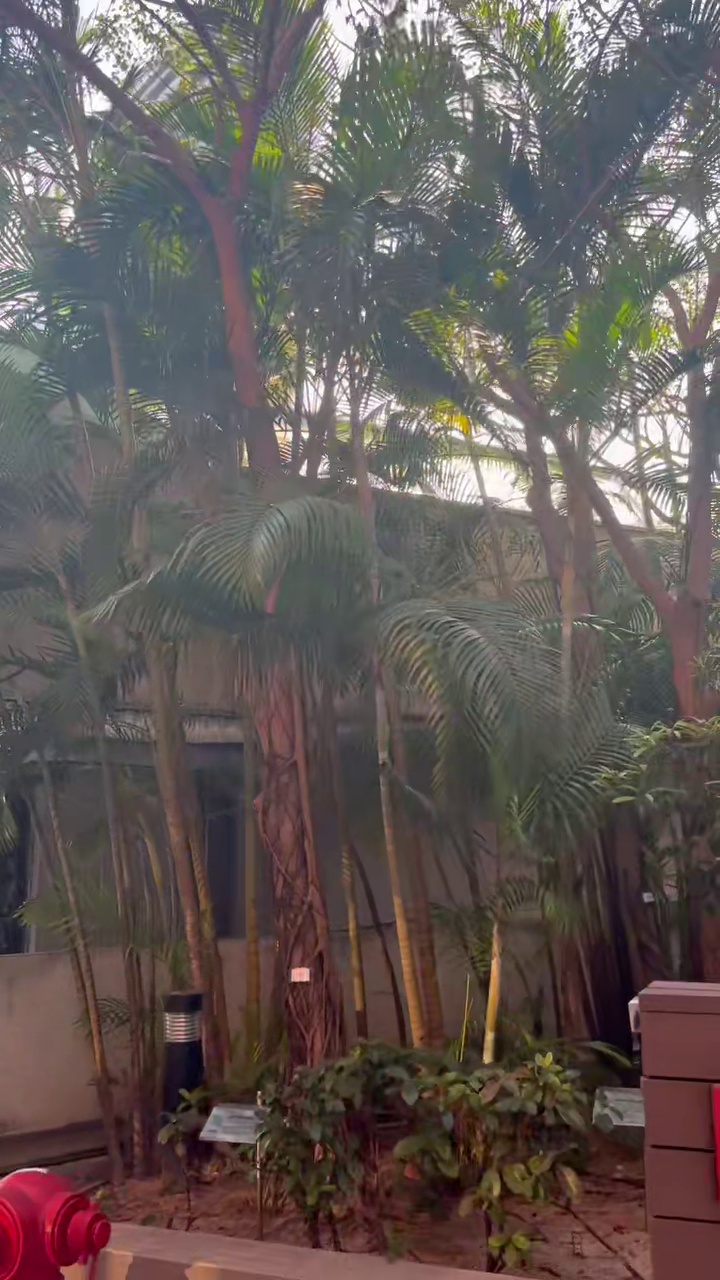Ficus benjamina: (9, 0, 344, 1065)
